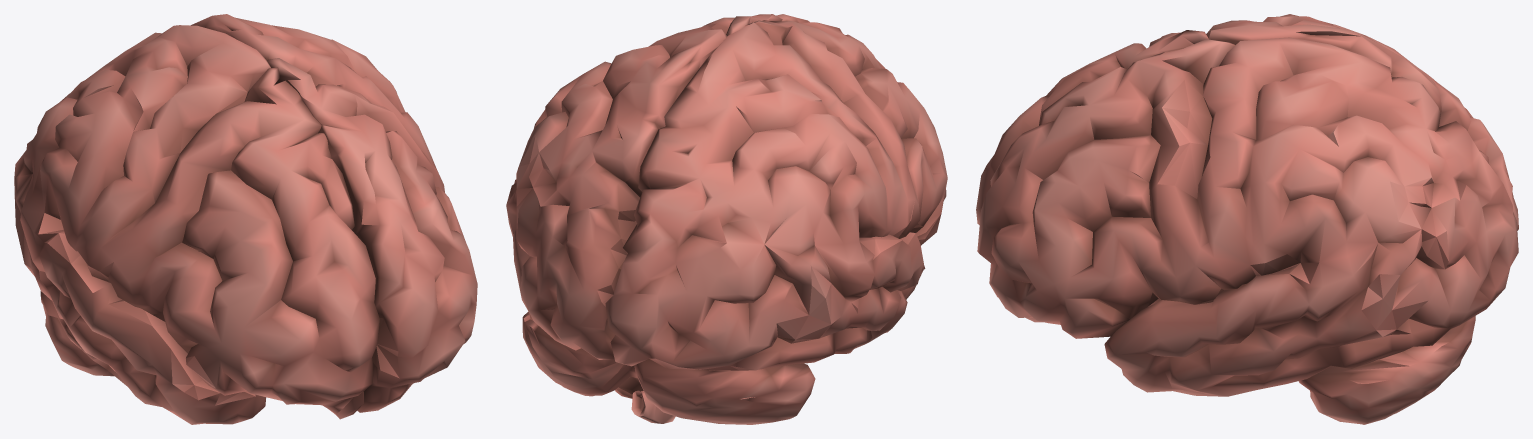
3 renders of one model, left to right at view 1: azimuth 30°, elevation 25°; view 2: azimuth 150°, elevation 25°; view 3: azimuth 270°, elevation 25°, orthographic. The views are drawn at different scales.
Visible parts, largest first — view 1: BrokenBrain; view 2: BrokenBrain; view 3: BrokenBrain.
Part boxes in pixels (box(x1,y1,x2,y2)): BrokenBrain: box(14, 14, 477, 424); BrokenBrain: box(506, 14, 947, 424); BrokenBrain: box(976, 14, 1518, 424).
Size of the model in its own units: 0.3837 by 0.3582 by 0.5.
